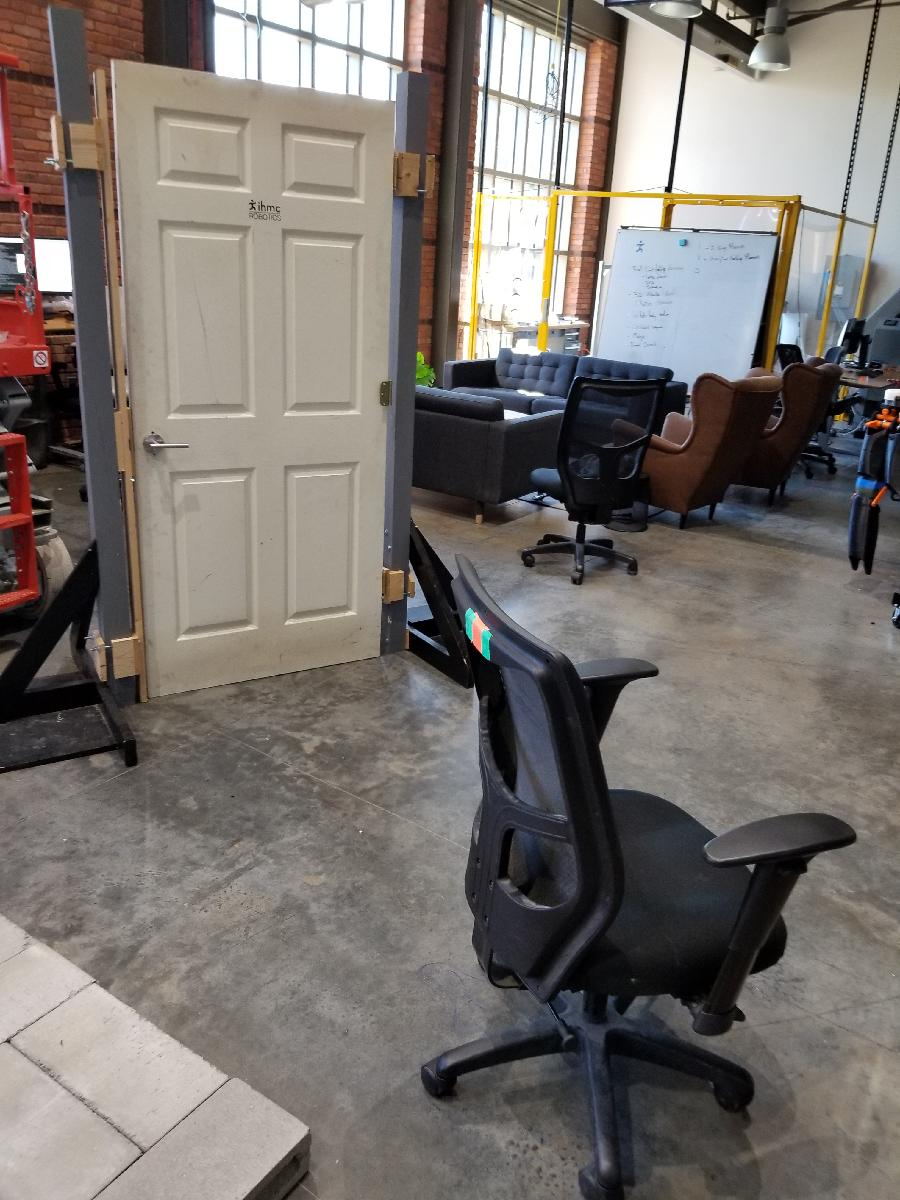door: (108, 54, 398, 705)
doorHandle: (138, 431, 191, 462)
